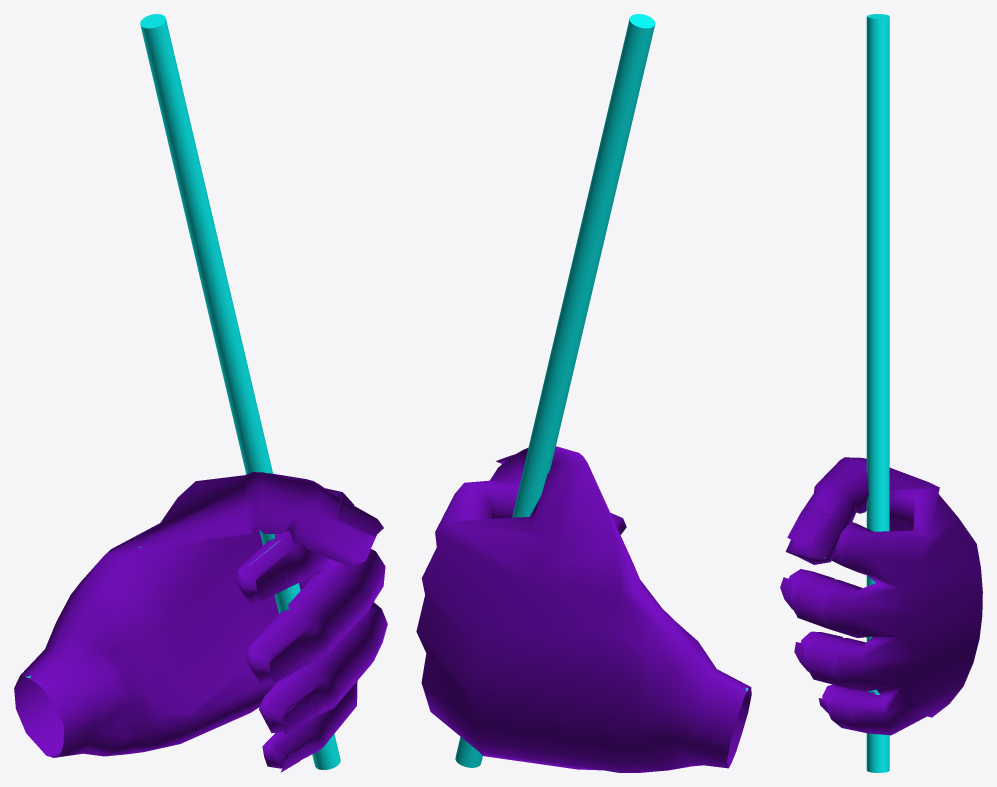
The model's file is MANO_1.fbx.
The picture shows the model from 3 angles, left to right: view 1: azimuth 30°, elevation 25°; view 2: azimuth 150°, elevation 25°; view 3: azimuth 270°, elevation 25°; orthographic projection. The views are drawn at different scales.
Visible parts, largest first — view 1: pCylinder32; view 2: pCylinder32; view 3: pCylinder32.
Part boxes in pixels (x1=…): pCylinder32: x1=14, y1=14, x2=387, y2=772; pCylinder32: x1=416, y1=14, x2=751, y2=772; pCylinder32: x1=780, y1=14, x2=982, y2=772.
Size of the model in its own units: 2.5 by 5.48 by 1.47.
2 materials, 2 textured.
